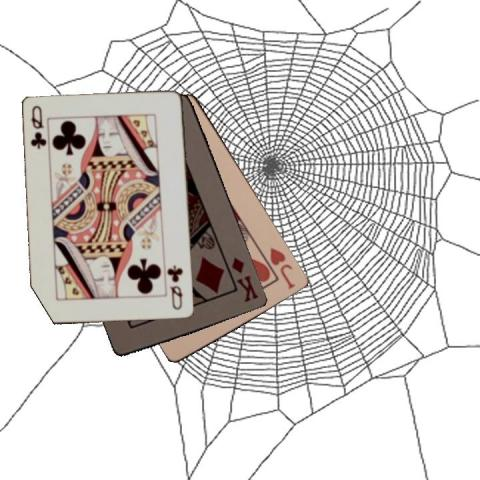Jh: (268, 244, 298, 291)
Kd: (229, 254, 260, 304)
Qc: (28, 103, 48, 150), (166, 262, 185, 311)
